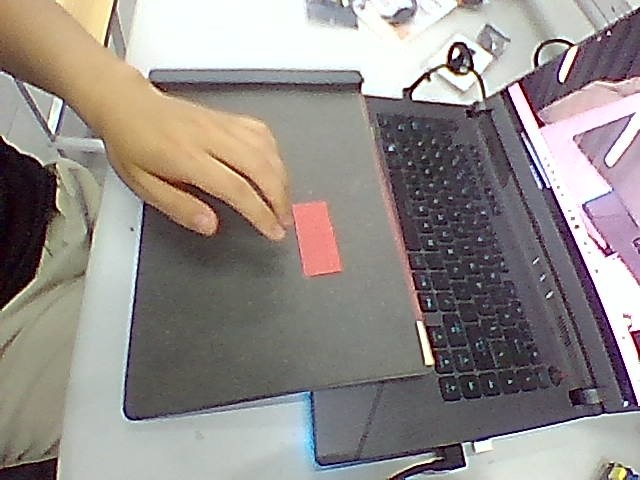card: (294, 202, 341, 276)
